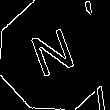N_S: (28, 25, 82, 85)
